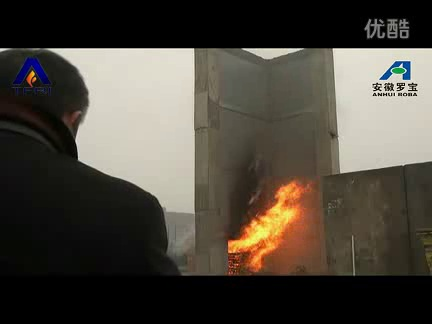fire: (227, 176, 312, 274)
